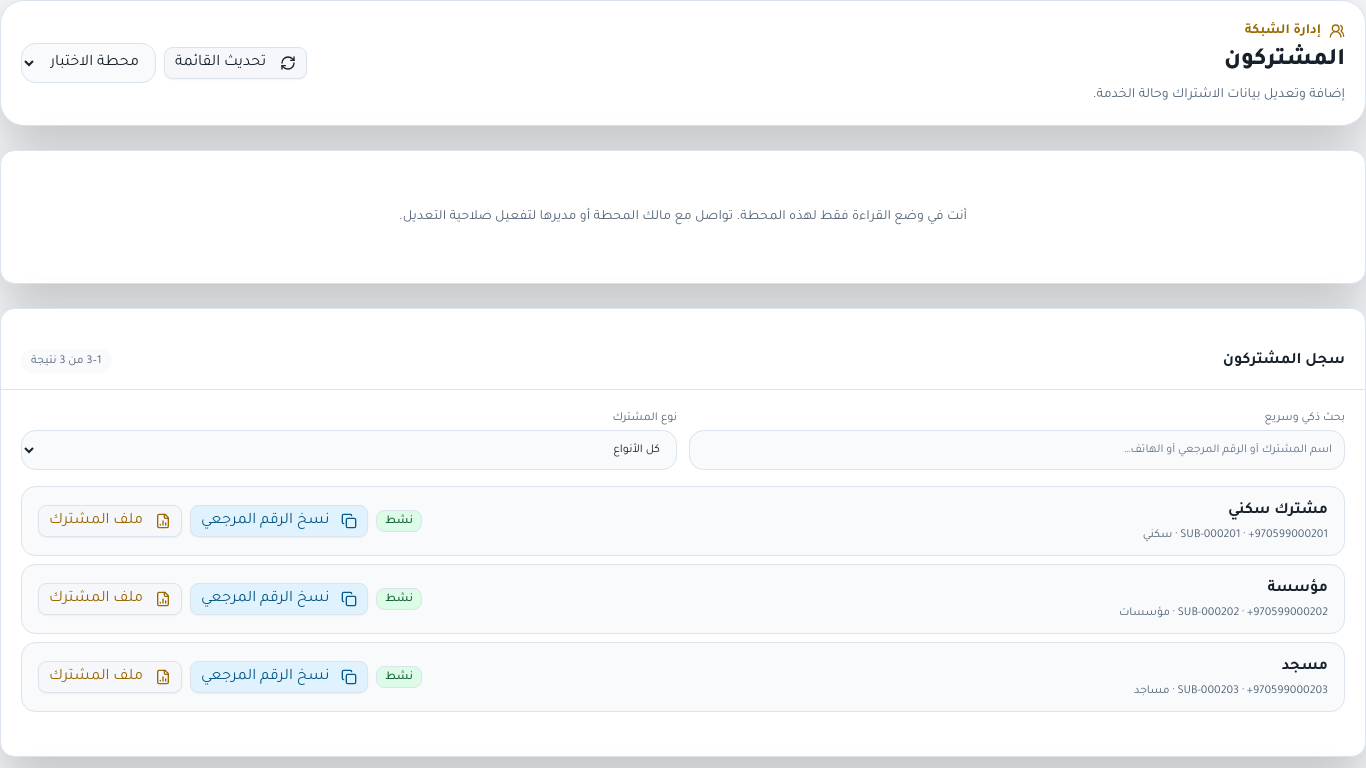
role guards in administration UI › filters the subscriber directory by institution and mosque type
Select "مؤسسات" in the dropdown named "فلتر نوع المشترك" at point(349, 450), box [21,430,677,470]
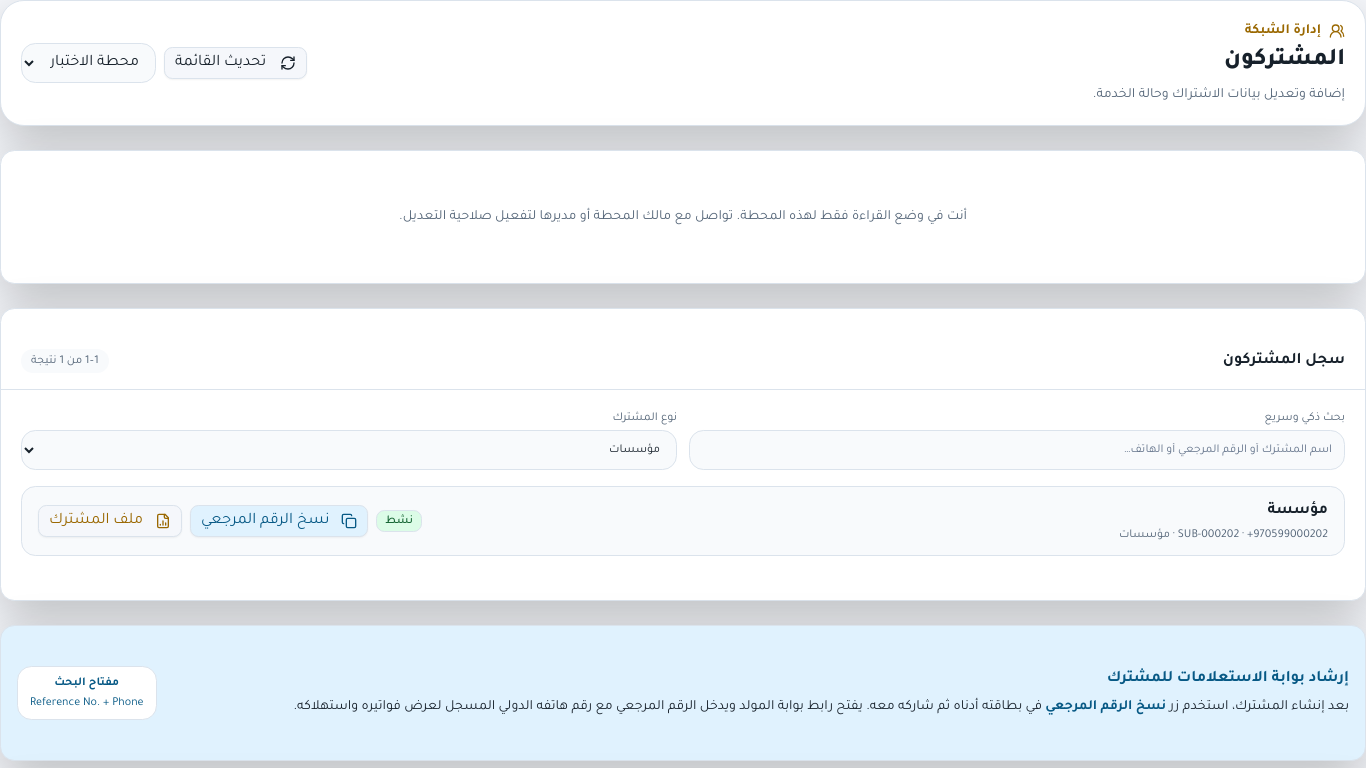
expect the text "مؤسسة" is shown: met, box [1267,503,1328,519]
expect the text "مشترك سكني" is gone: met
Select "مساجد" in the dropdown named "فلتر نوع المشترك" at point(349, 450), box [21,430,677,470]
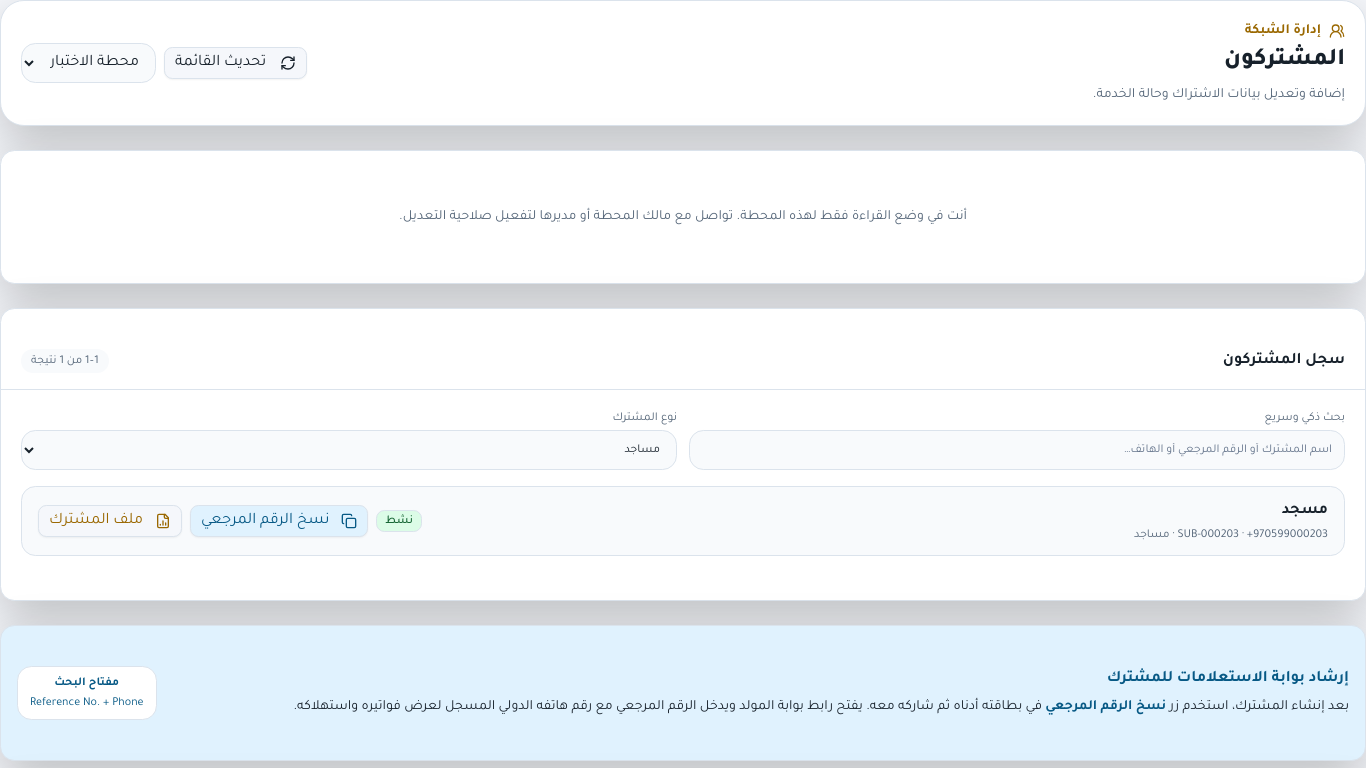
expect the text "مسجد" is shown: met, box [1282,503,1328,519]
expect the text "مؤسسة" is gone: met
